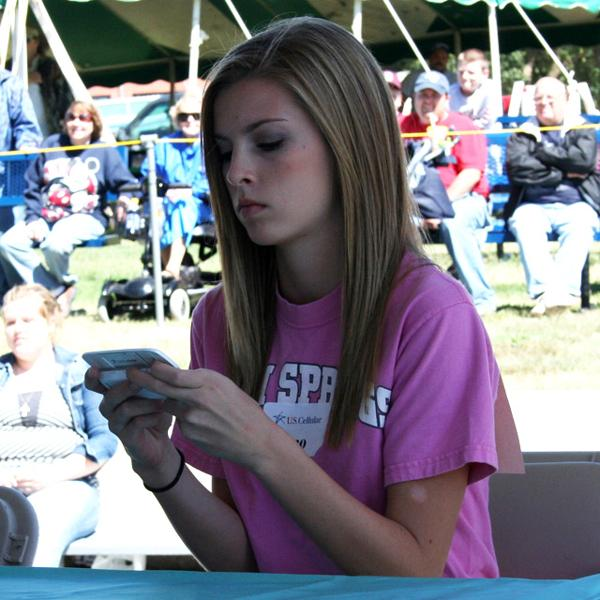person: (84, 19, 503, 578)
